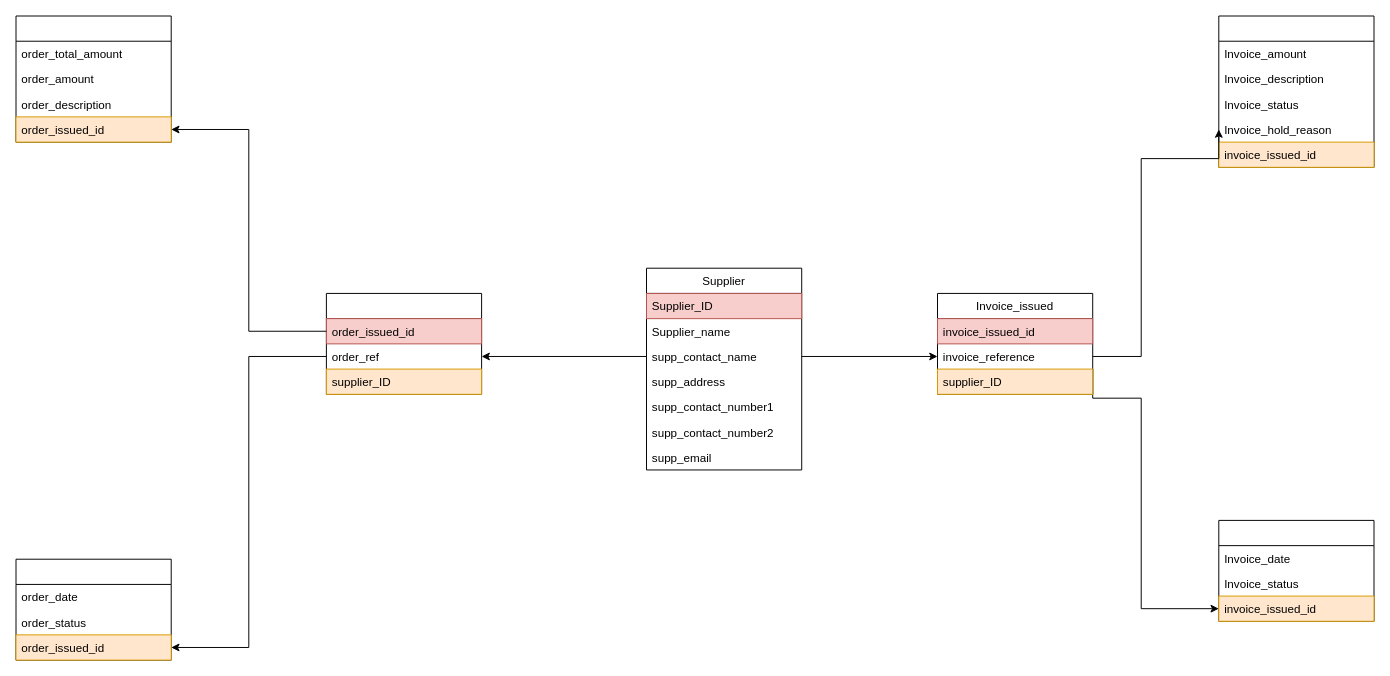
Image size: 1390x676. Some labels were removed from this diagram. The shapes that lost their labels are listed below. From the top down, each one's box as (x1, y1, x2, y2) in pixels, then its label:
(15, 15, 171, 142): Order_details
(1218, 15, 1374, 167): Invoice_details
(325, 292, 482, 394): Orders
(1218, 519, 1374, 621): Invoice_stats
(15, 558, 171, 660): Order_stats
